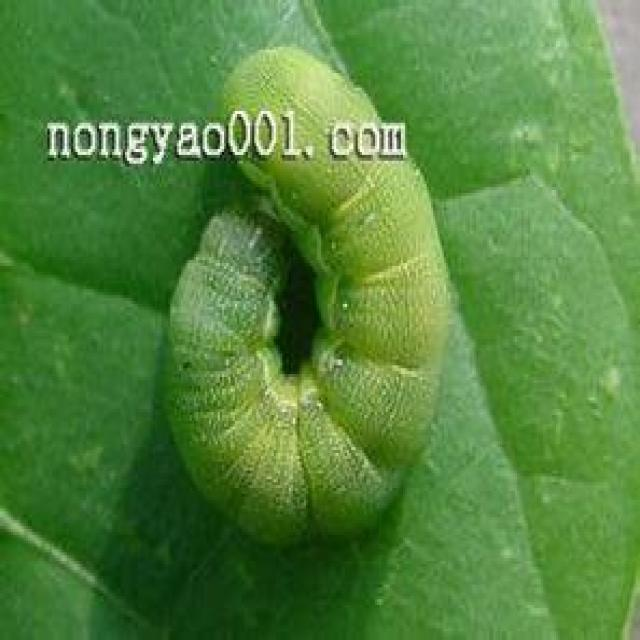BeetArmyWorm-Larva-: (142, 36, 475, 558)
